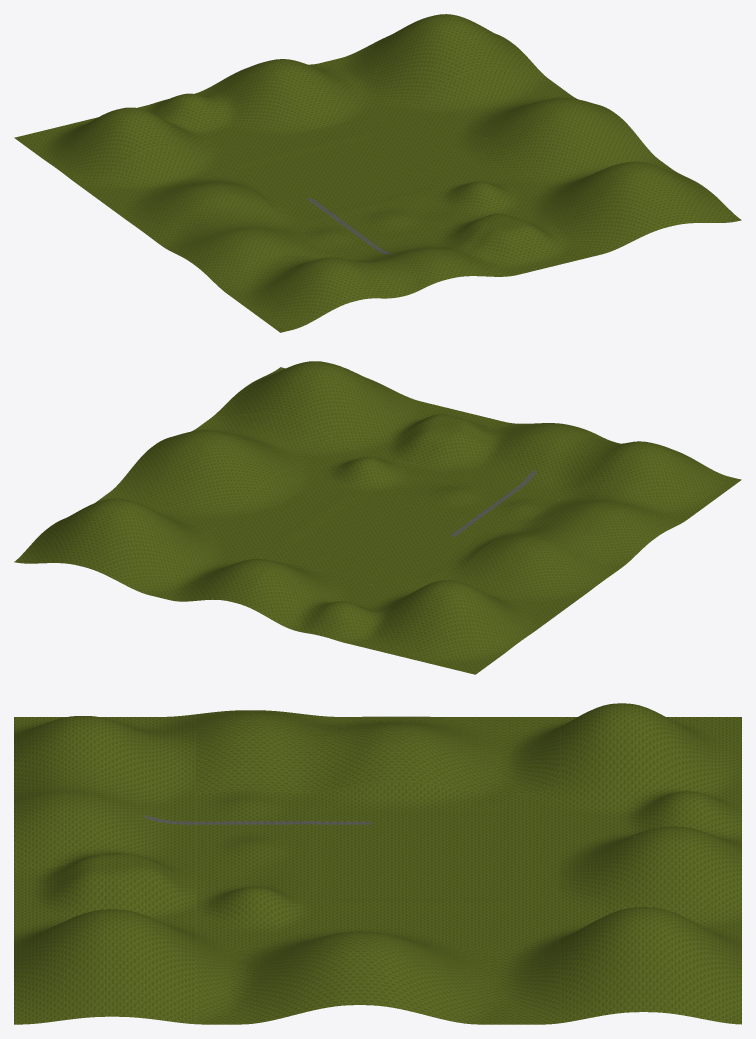
Rendered from StageMap.gltf.
The picture shows the model from 3 angles, top to bottom: view 1: azimuth 30°, elevation 25°; view 2: azimuth 150°, elevation 25°; view 3: azimuth 270°, elevation 25°; orthographic projection. The views are drawn at different scales.
Parts seen in each view (by area): view 1: StageMap.001; view 2: StageMap.001; view 3: StageMap.001.
Boxes of the visible parts, x1,y1,x2,y2 form: StageMap.001: (14,14,741,332); StageMap.001: (14,361,741,674); StageMap.001: (14,703,741,1024).
Size of the model in its own units: 120 by 12.35 by 120.
2 materials, 2 textured.
